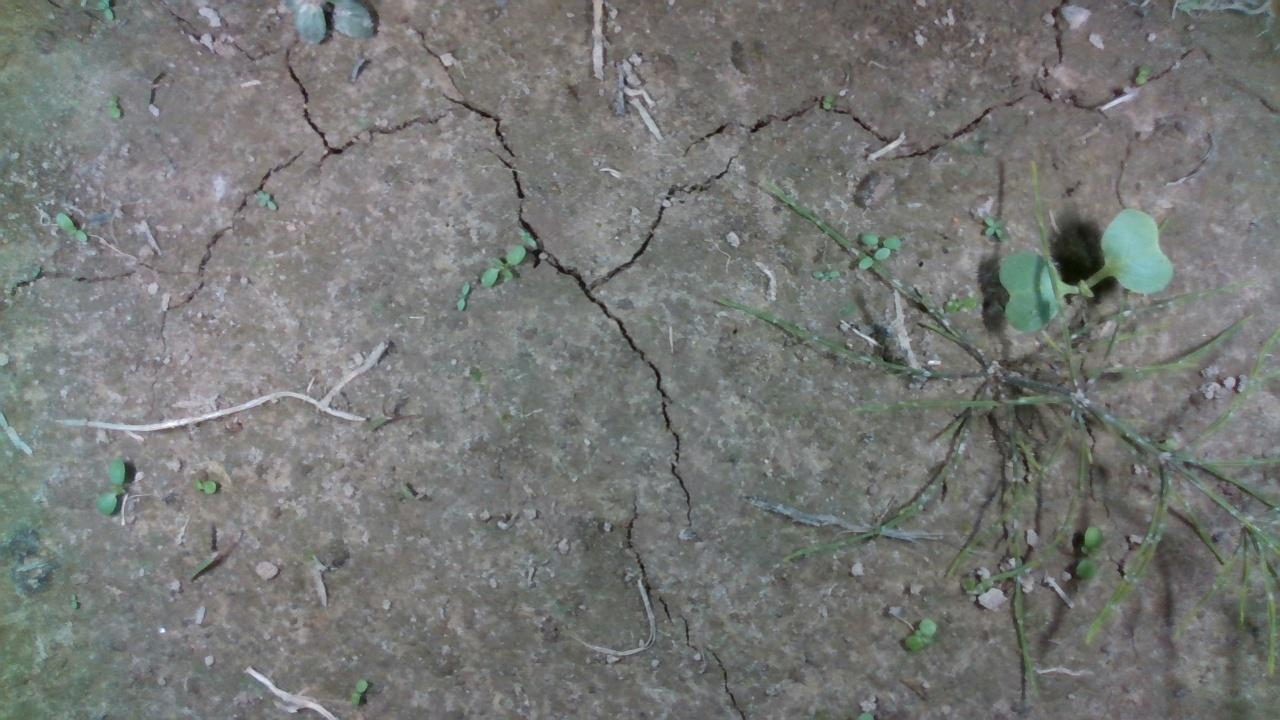weed: (48, 207, 96, 257), (899, 612, 938, 653), (102, 456, 129, 515), (100, 92, 137, 135), (187, 472, 226, 498), (973, 208, 1002, 241), (450, 277, 471, 320), (252, 184, 278, 210)
